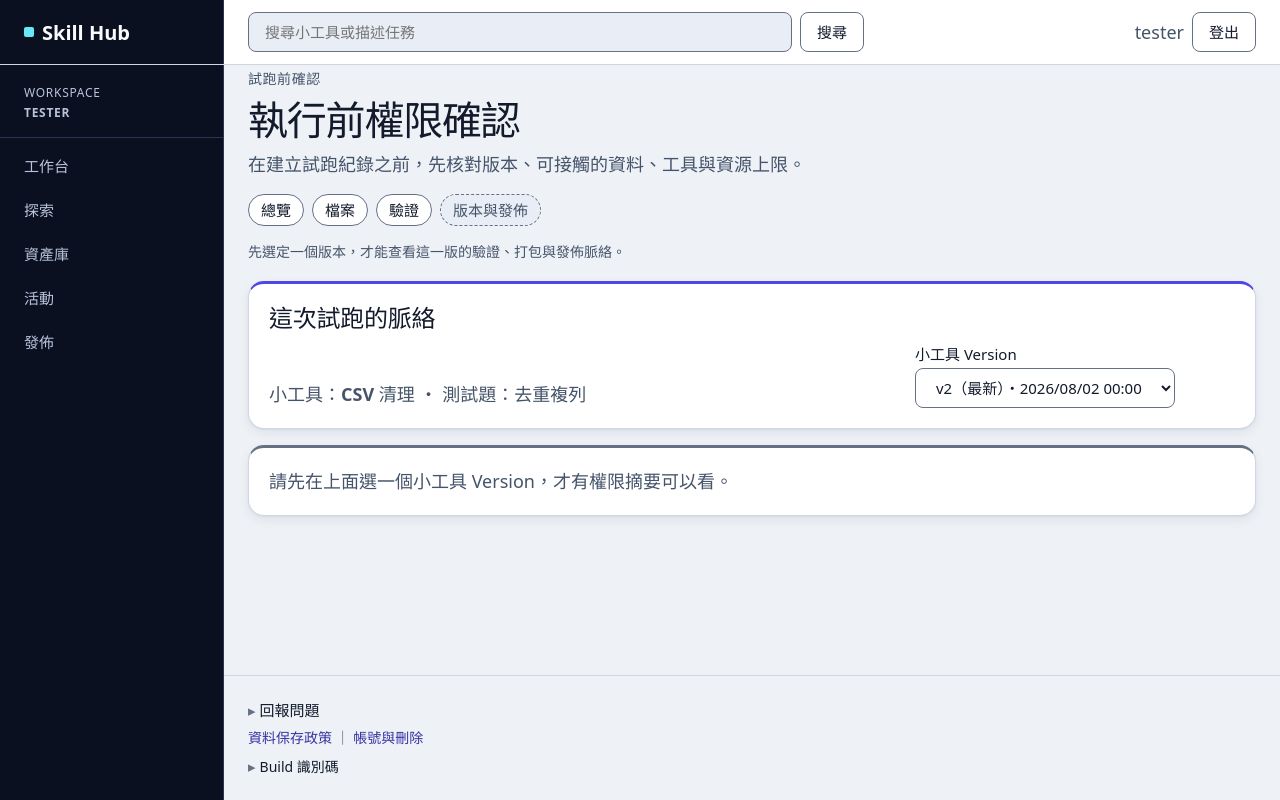
04 丙-14 with no version in the URL the page asks for one instead of demanding an id
Select "v2（最新）・2026/08/02 00:00" in the dropdown labelled "小工具 Version" at (1045, 388), box [915,368,1175,408]
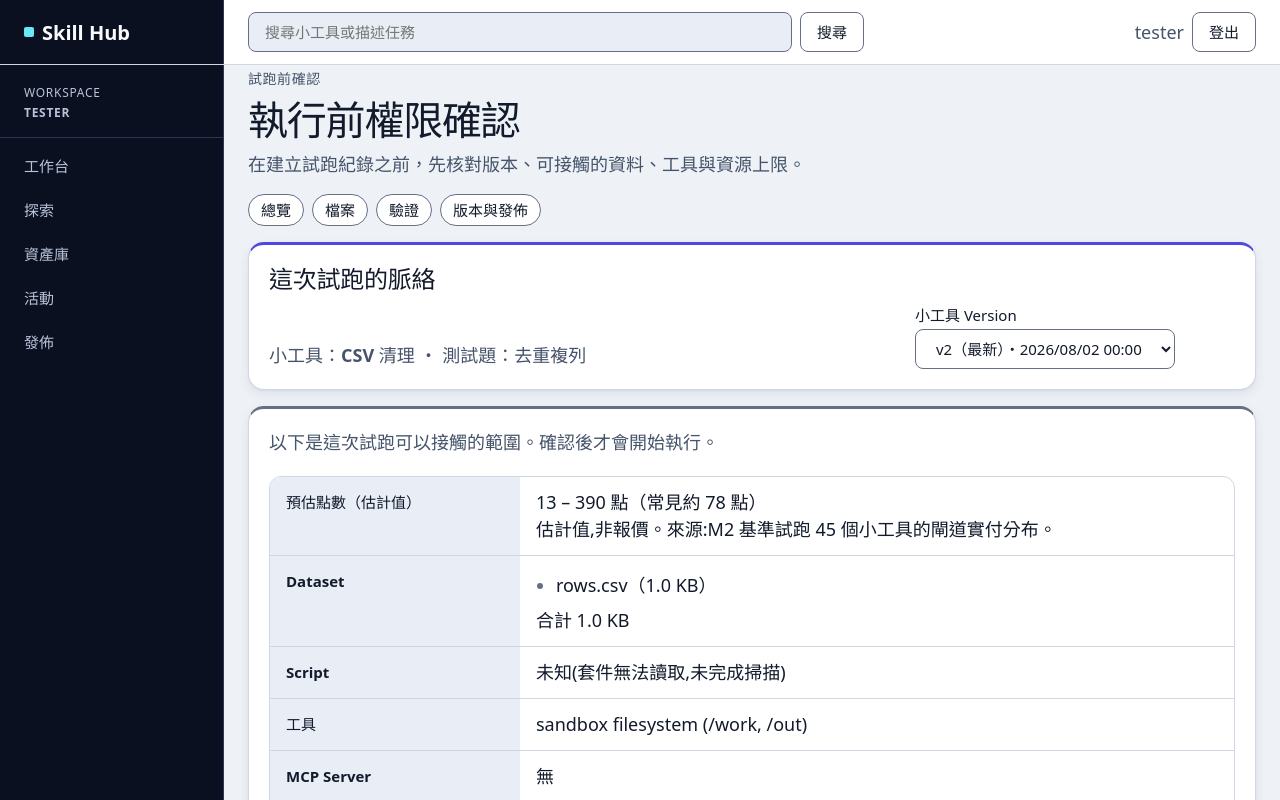
Check: the text "rows.csv" is shown, box [556,572,628,596]
